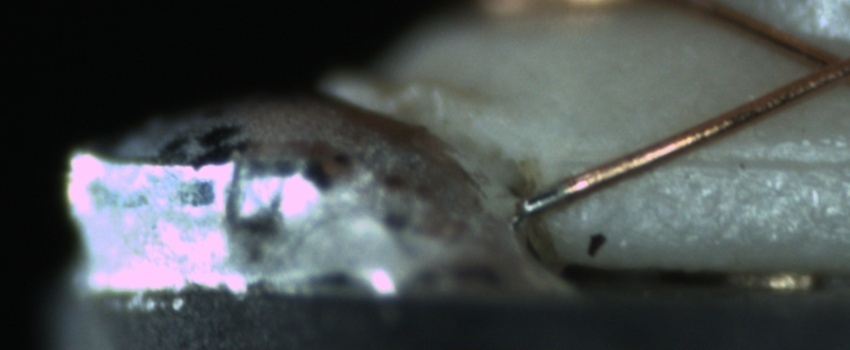CL: (791, 37, 849, 91)
DL: (613, 125, 847, 192)
TS: (521, 182, 570, 215)
